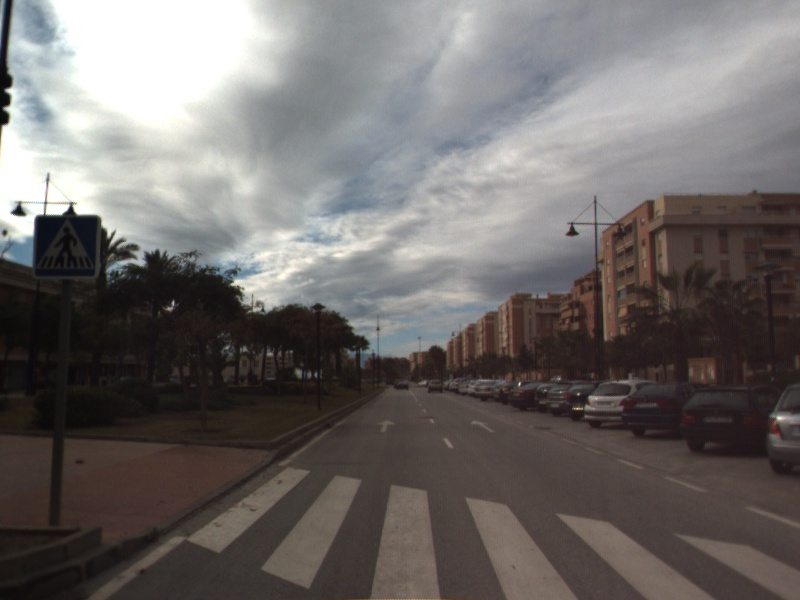STRAIGHT: (469, 418, 497, 434), (375, 418, 397, 434)
